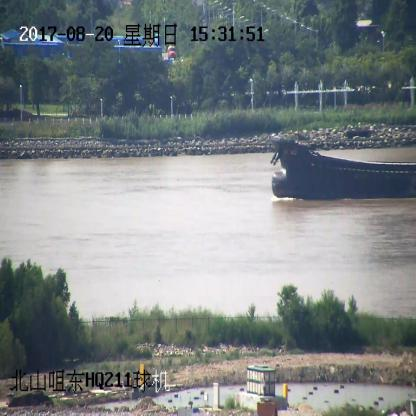Bulk Carrier: (271, 138, 416, 200)
